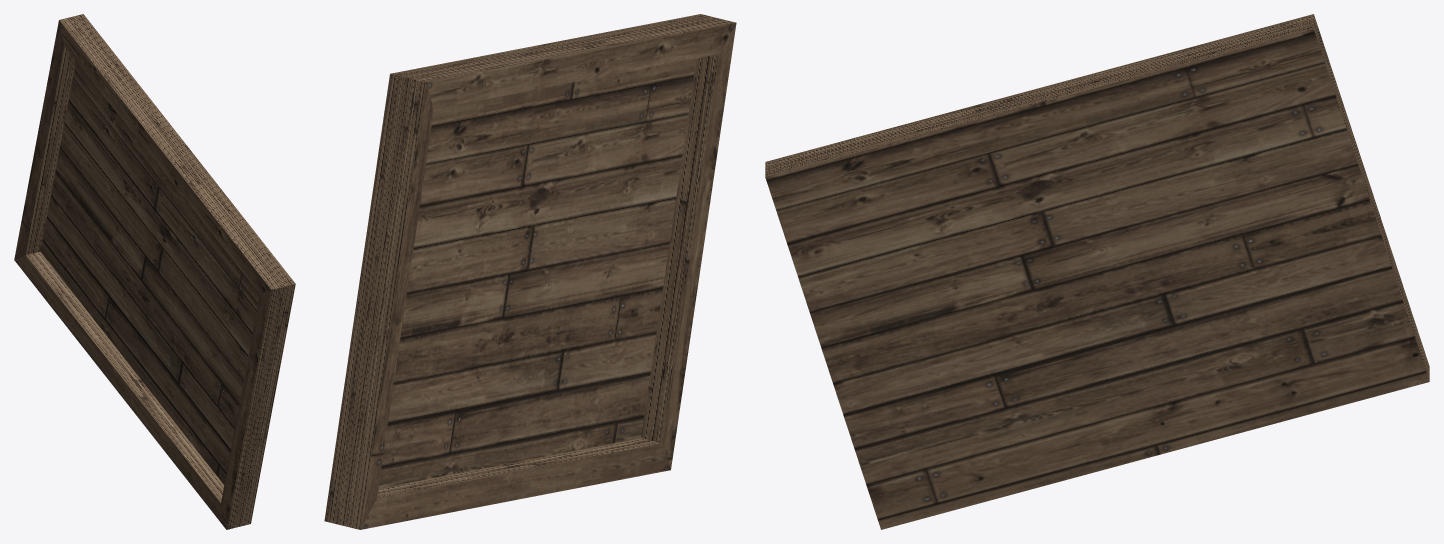
Rendered from bedroom.glb.
The picture shows the model from 3 angles, left to right: view 1: azimuth 30°, elevation 25°; view 2: azimuth 150°, elevation 25°; view 3: azimuth 270°, elevation 25°; orthographic projection. The views are drawn at different scales.
Visible parts, largest first — view 1: B_painting1.001; view 2: B_painting1.001; view 3: B_painting1.001.
Part boxes in pixels (box(x1,y1,x2,y2)): B_painting1.001: box(14, 14, 295, 529); B_painting1.001: box(324, 14, 736, 529); B_painting1.001: box(765, 14, 1429, 529).
Size of the model in its own units: 0.7283 by 11.02 by 13.25.
1 material, 1 textured.
